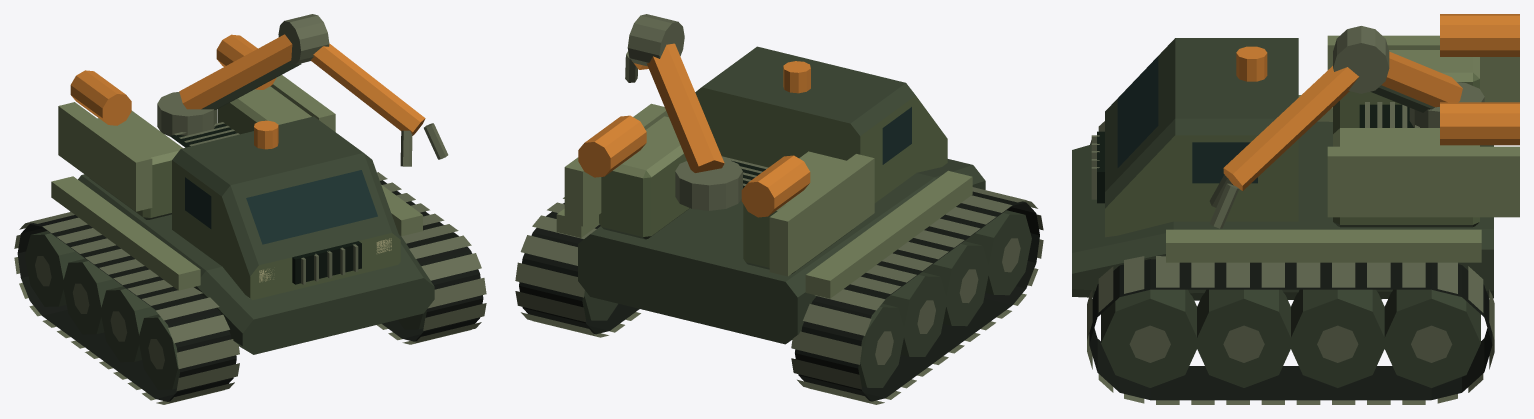
File: repairCrawler_armored.glb
3 views of the same model, side by side, from view 1: azimuth 30°, elevation 25°; view 2: azimuth 150°, elevation 25°; view 3: azimuth 270°, elevation 25° (orthographic). The views are drawn at different scales.
Visible parts, largest first — view 1: Body; view 2: Body; view 3: Body.
Boxes of the visible parts, bbox=[...] form: Body: bbox=[14, 14, 486, 404]; Body: bbox=[515, 14, 1043, 404]; Body: bbox=[1072, 14, 1519, 404].
Size of the model in its own units: 7.2 by 5.66 by 7.02.
Materials: 1 (1 with a texture image).
